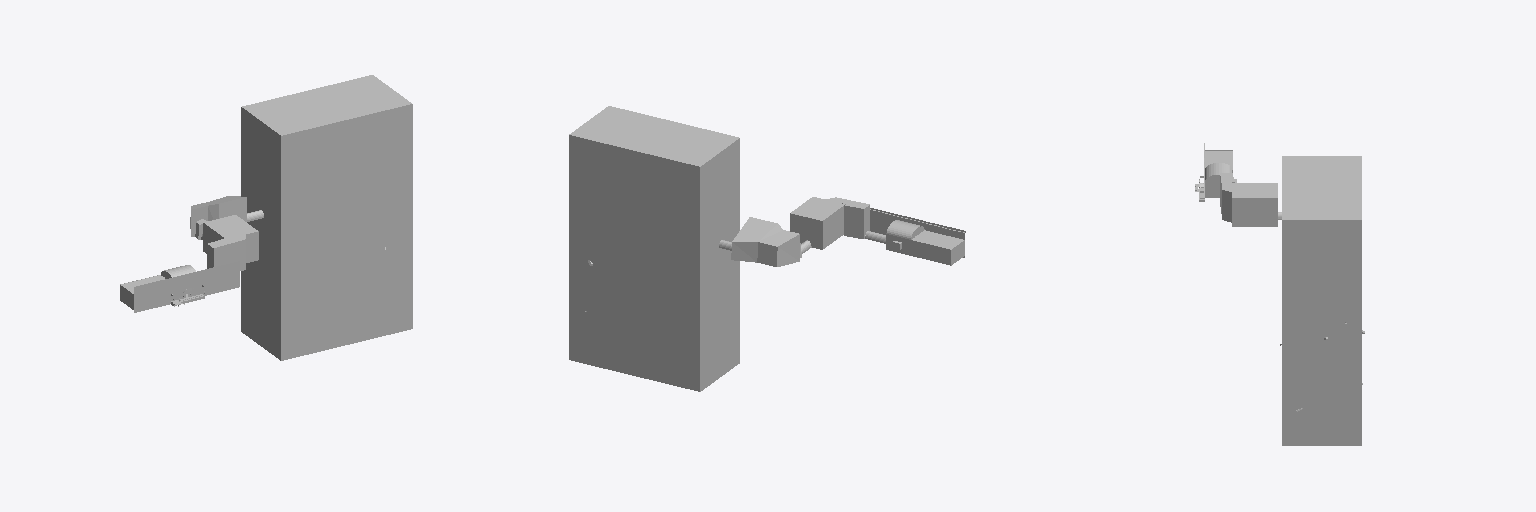
The model's file is Amusement Park Nightmare.obj.
The picture shows the model from 3 angles: view 1: azimuth 30°, elevation 25°; view 2: azimuth 150°, elevation 25°; view 3: azimuth 270°, elevation 25°; orthographic projection.
Visible parts, largest first — view 1: AmusementPark_20, AmusementPark_2, AmusementPark_15, AmusementPark_19, AmusementPark_13; view 2: AmusementPark_20, AmusementPark_19, AmusementPark_15, AmusementPark_7, AmusementPark_2, AmusementPark_13, AmusementPark_10; view 3: AmusementPark_20, AmusementPark_15, AmusementPark_13.
Boxes of the visible parts, x1=… form: AmusementPark_20: x1=241, y1=75, x2=412, y2=360; AmusementPark_2: x1=134, y1=261, x2=239, y2=312; AmusementPark_15: x1=203, y1=215, x2=258, y2=262; AmusementPark_19: x1=190, y1=196, x2=246, y2=236; AmusementPark_13: x1=207, y1=235, x2=245, y2=270; AmusementPark_20: x1=569, y1=106, x2=739, y2=391; AmusementPark_19: x1=731, y1=217, x2=799, y2=266; AmusementPark_15: x1=790, y1=197, x2=845, y2=249; AmusementPark_7: x1=886, y1=230, x2=964, y2=265; AmusementPark_2: x1=870, y1=208, x2=965, y2=257; AmusementPark_13: x1=826, y1=197, x2=869, y2=238; AmusementPark_10: x1=912, y1=230, x2=963, y2=249; AmusementPark_20: x1=1282, y1=156, x2=1361, y2=445; AmusementPark_15: x1=1232, y1=183, x2=1277, y2=226; AmusementPark_13: x1=1220, y1=173, x2=1234, y2=222.
Size of the model in its own units: 230 by 155 by 106.